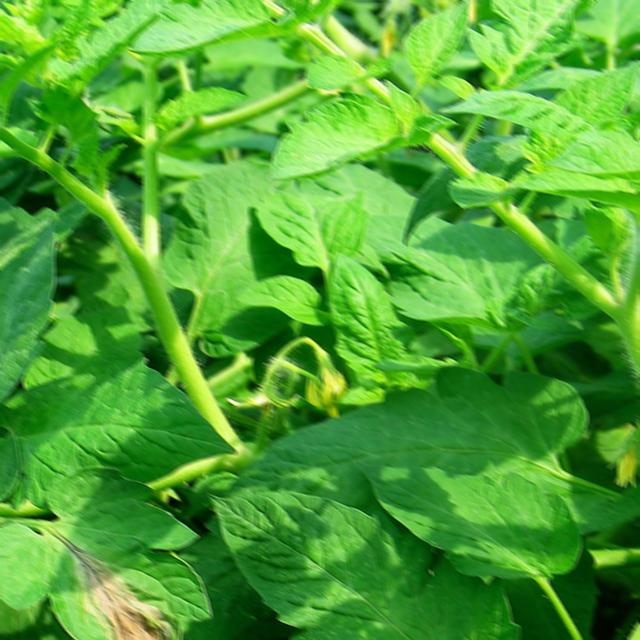Tomato leaf: (212, 478, 517, 640), (383, 439, 573, 602), (0, 497, 208, 640), (0, 203, 80, 505), (257, 104, 425, 177)
